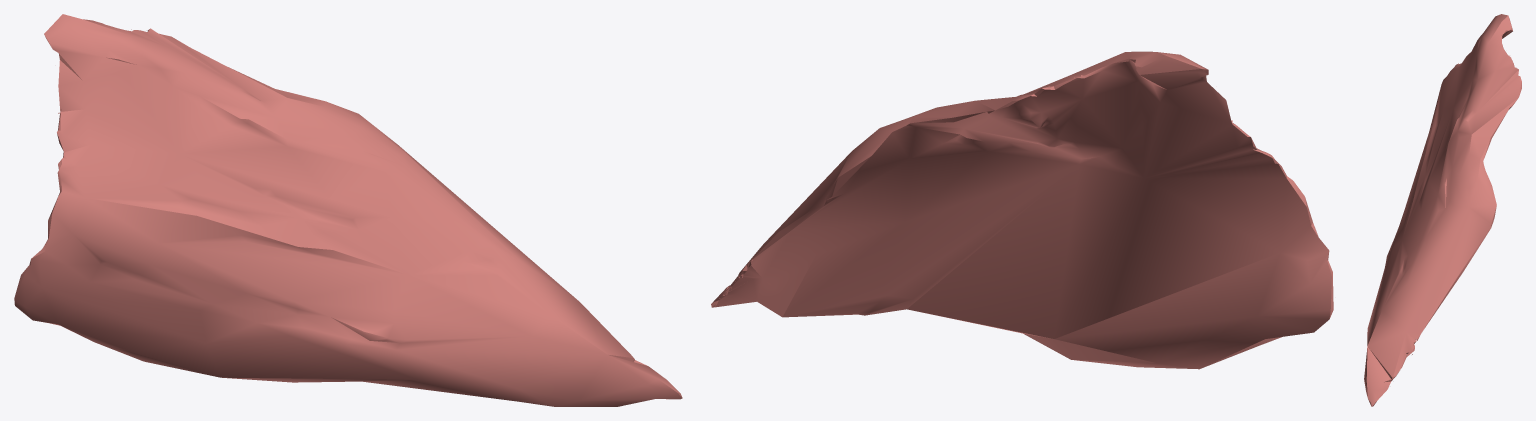
Rendered from fma37391_fj1501m.glb.
The picture shows the model from 3 angles, left to right: view 1: azimuth 30°, elevation 25°; view 2: azimuth 150°, elevation 25°; view 3: azimuth 270°, elevation 25°; orthographic projection. The views are drawn at different scales.
Parts seen in each view (by area): view 1: FMA37391_FJ1501M; view 2: FMA37391_FJ1501M; view 3: FMA37391_FJ1501M.
Part boxes in pixels (x1,y1,x2,y2): FMA37391_FJ1501M: [14, 14, 682, 406]; FMA37391_FJ1501M: [711, 51, 1333, 369]; FMA37391_FJ1501M: [1364, 14, 1521, 406].
Size of the model in its own units: 0.0478 by 0.0322 by 0.0186.
